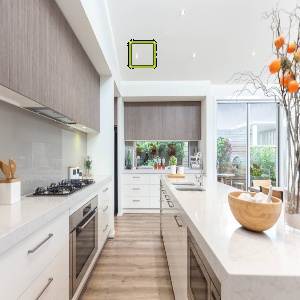square: (124, 38, 161, 71)
